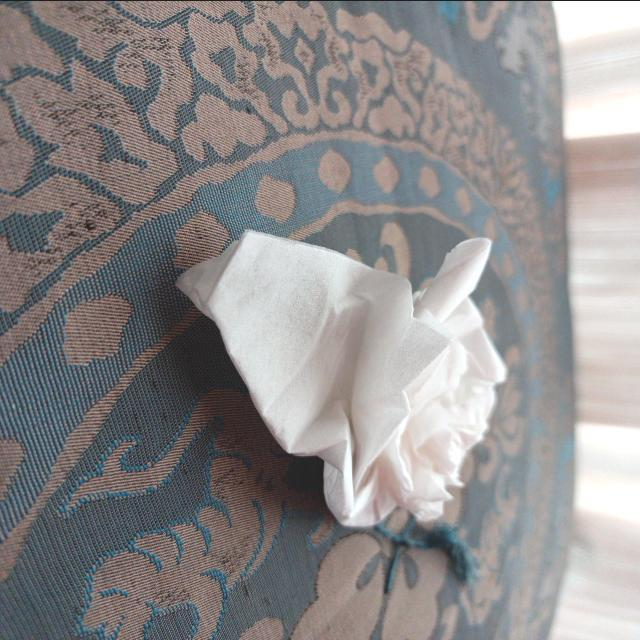Paper: (175, 200, 505, 545)
